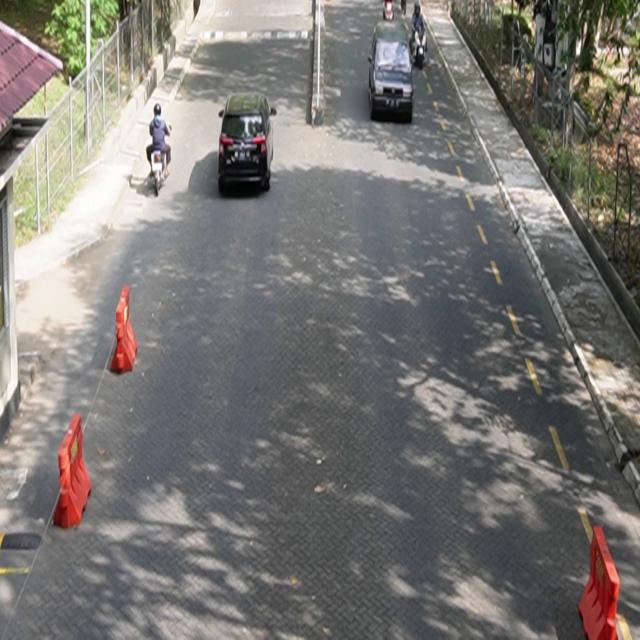car: (219, 92, 278, 194), (368, 21, 415, 124)
